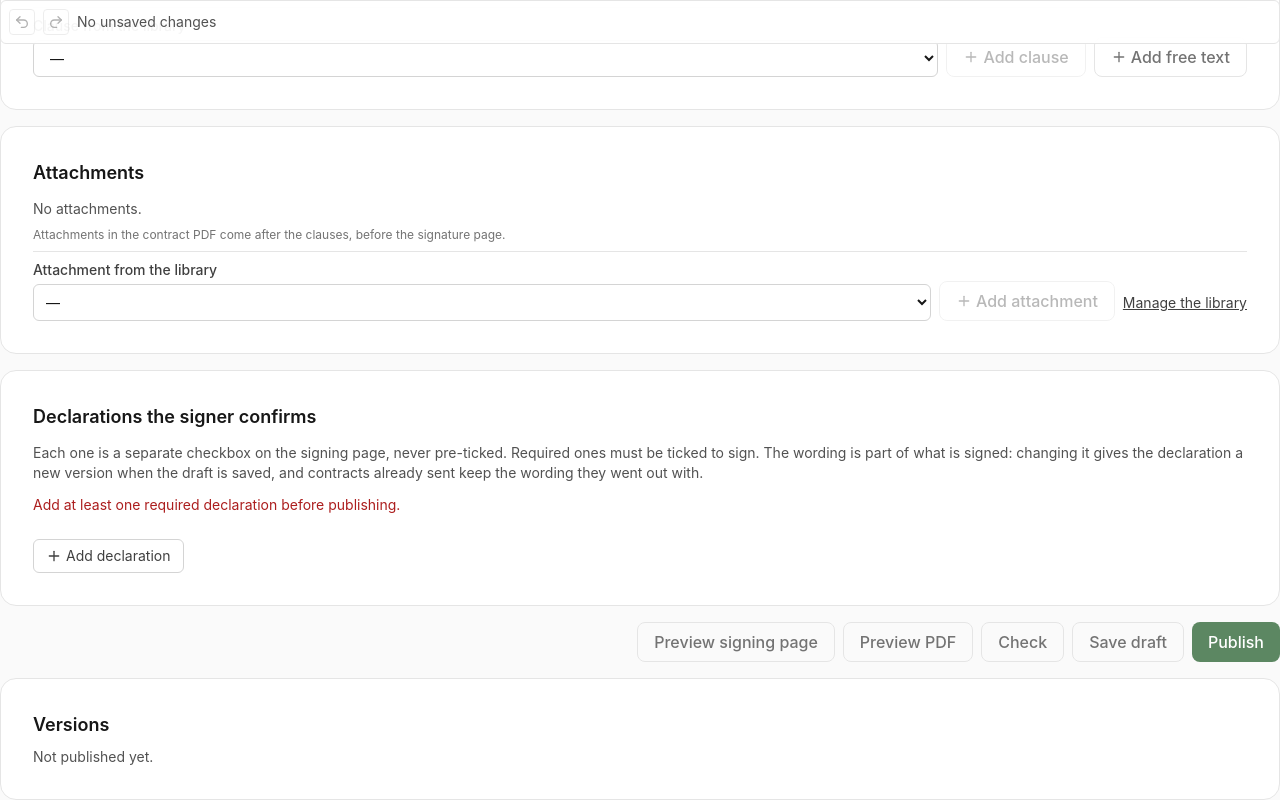
Scenario: shows the findings of a publish the server refused
This screenshot has width=1280, height=800.
(page scrolled)
Click the button "Publish" at coordinates (1236, 642), box [1192,622,1279,662]
(page scrolled)
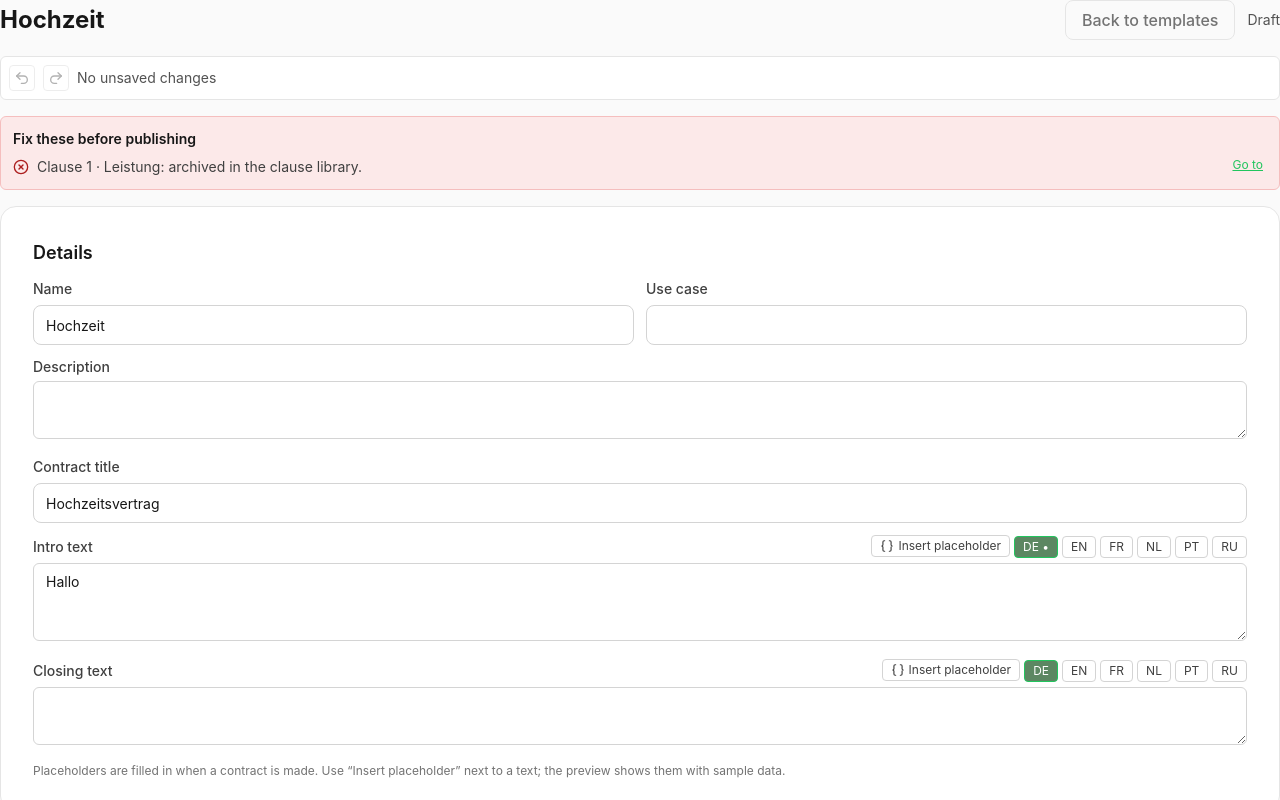
Now the text "Clause 1 · Leistung: archived in the clause library." is shown, box [37,158,362,175]
